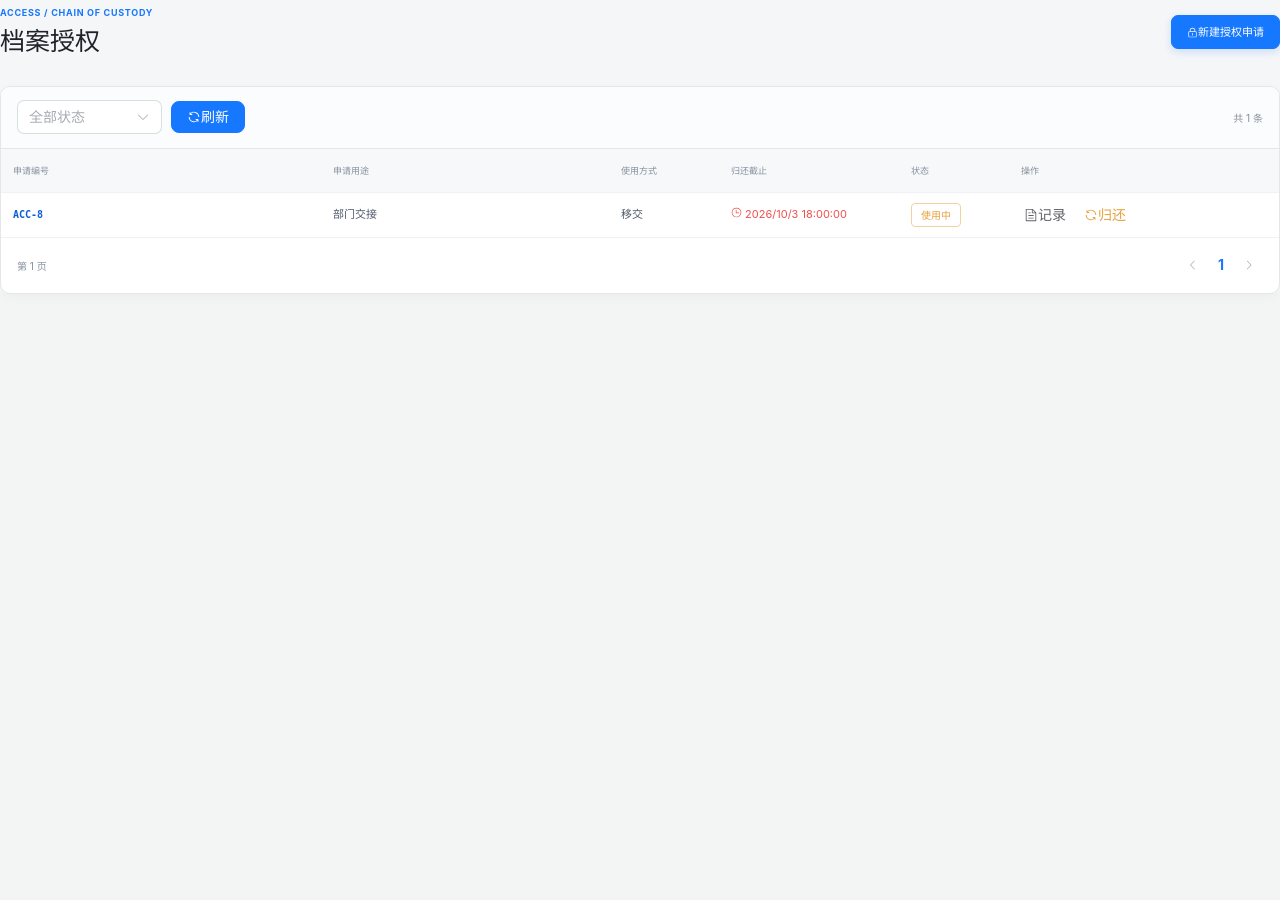
it: ArchiveAccessView › loads only in-scope active employees for handover
The width and height of the screenshot is (1280, 900).
Click the button titled "登记归还". click: coordinates (1105, 215)
box: x1=1081 y1=205 x2=1129 y2=225
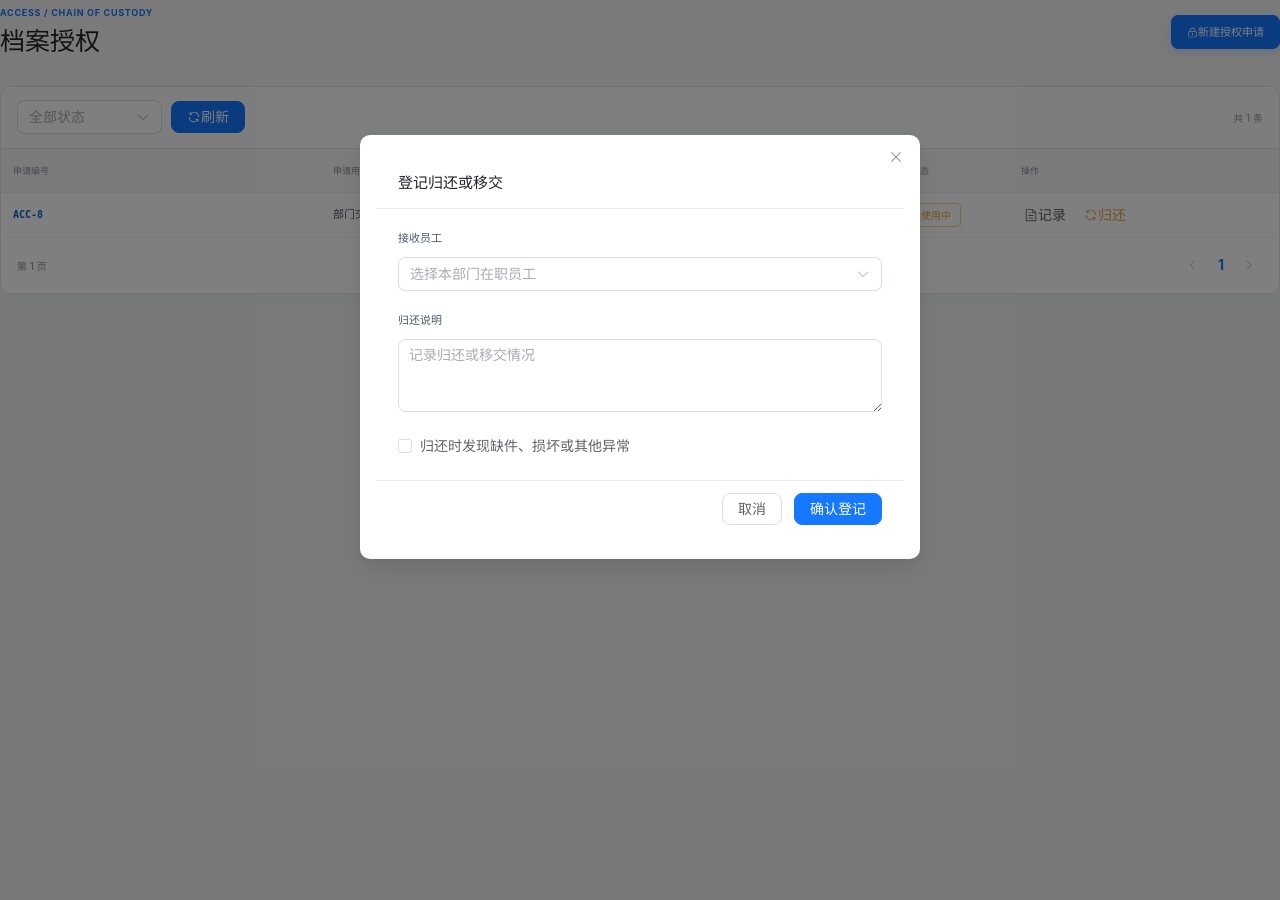
Click the element showing "选择本部门在职员工". click: coordinates (640, 274)
box: x1=398 y1=257 x2=882 y2=291
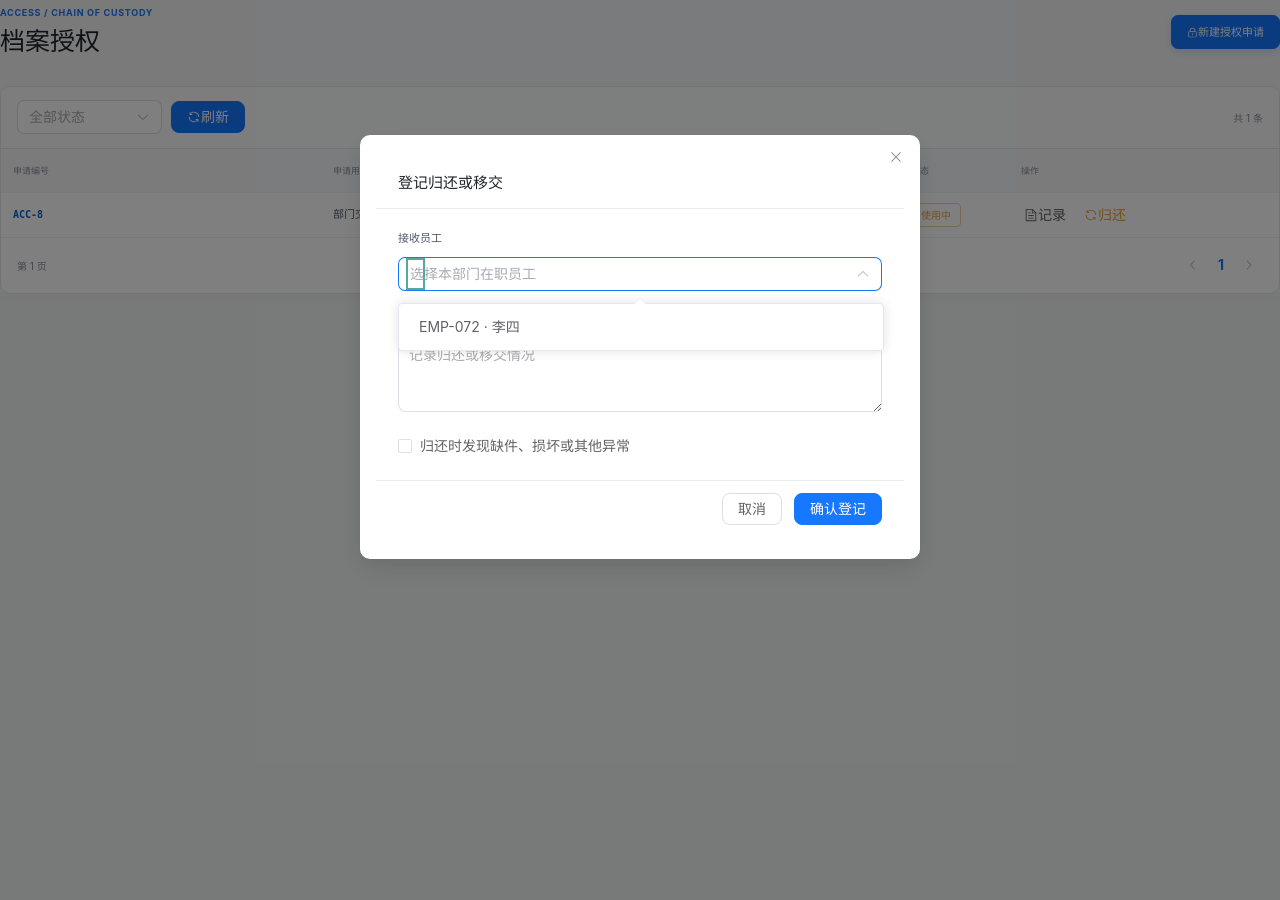
Result: the text "EMP-072" is shown at x1=419 y1=318 x2=520 y2=335
